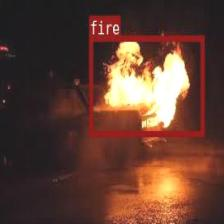fire: (89, 34, 204, 136)
